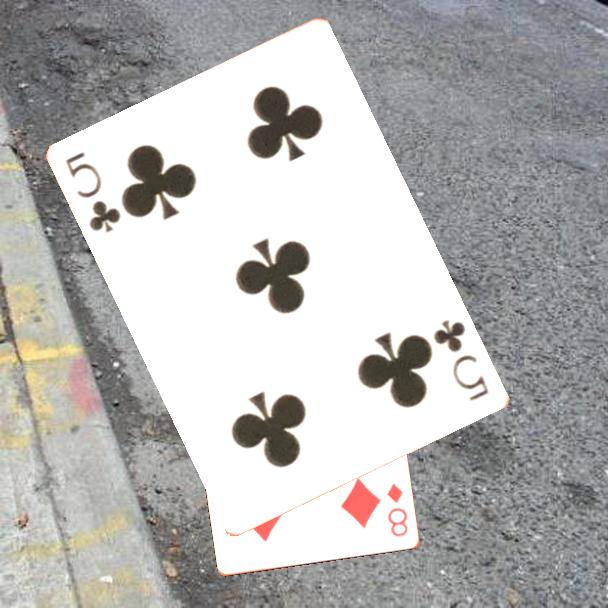c05: (62, 148, 125, 236), (430, 316, 492, 404)
d08: (384, 480, 411, 540)
